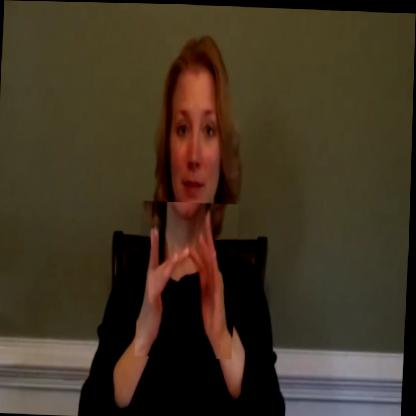Internet: (136, 200, 240, 358)
